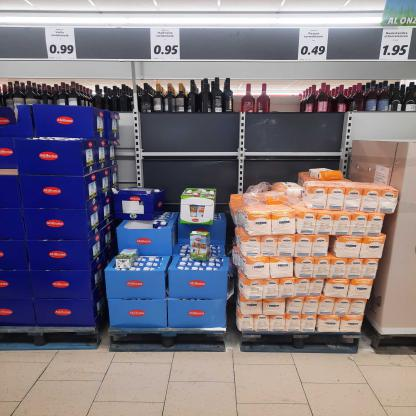prtg: (380, 29, 414, 61), (46, 29, 78, 60), (299, 29, 330, 61), (151, 30, 181, 61)
